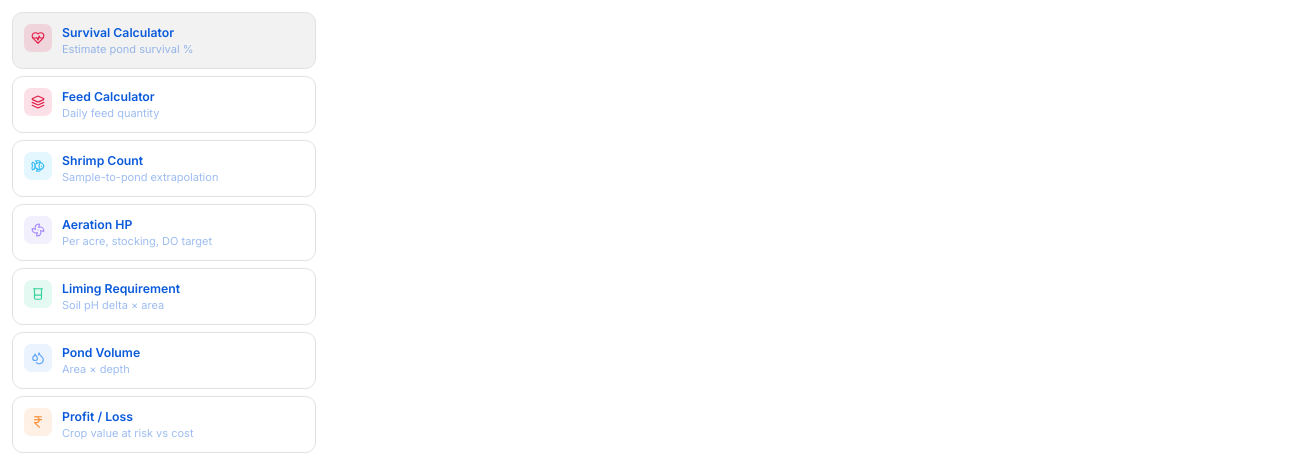
<CalculatorsModule /> › switches to the Pond Volume calculator when clicked
This screenshot has width=1292, height=470.
Step 1. Click the text "Pond Volume" → [101, 352], box [62,344,140,360]
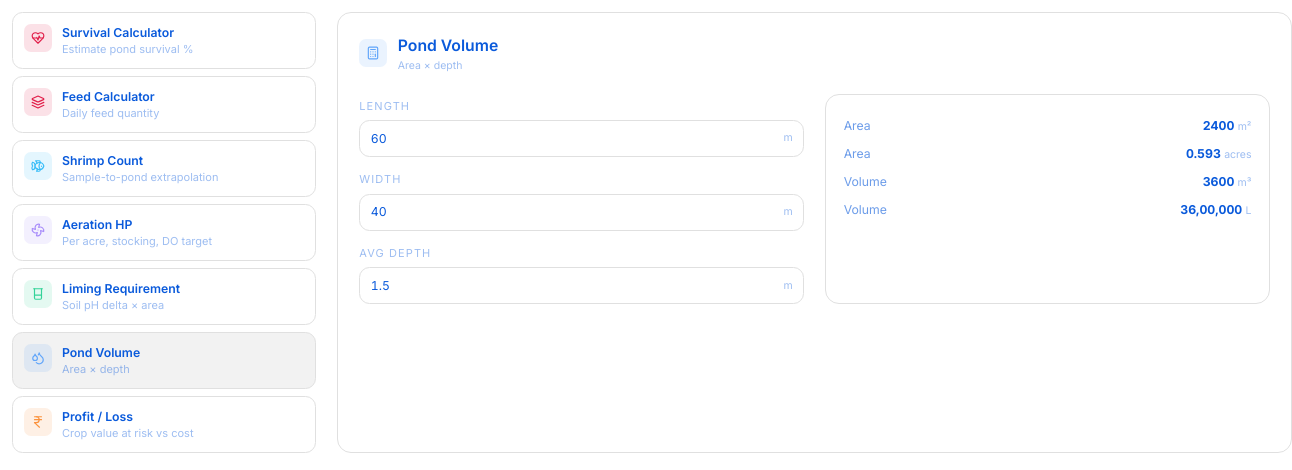
Check: the text "Length" is shown, box [359,98,410,112]
Check: the text "Width" is shown, box [359,172,402,186]
Check: the text "Avg depth" is shown, box [359,246,431,260]
